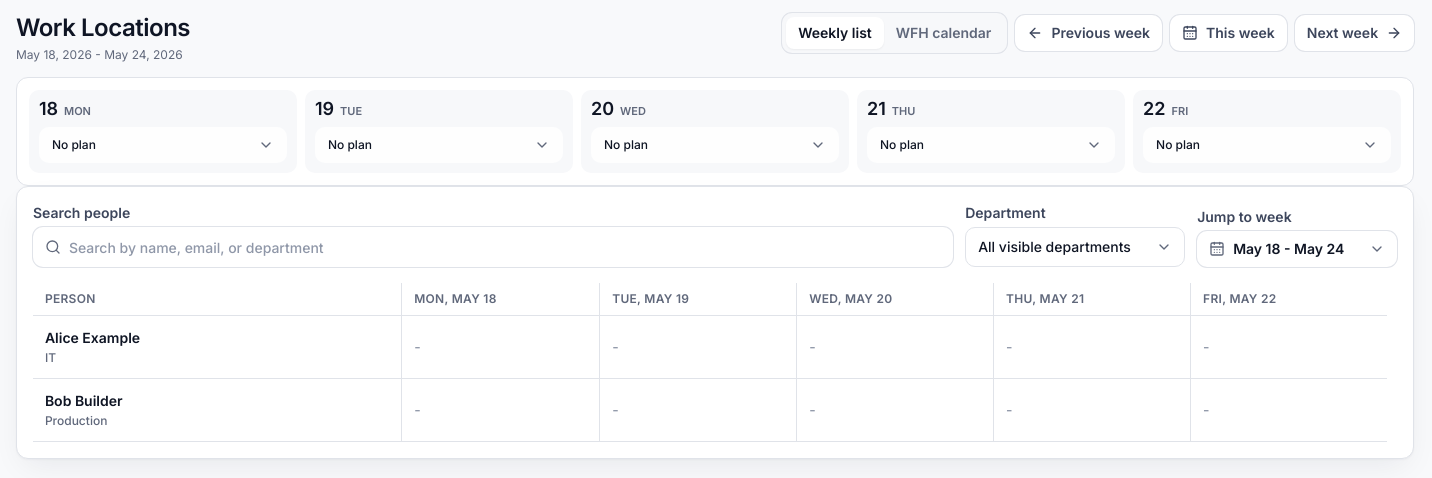
WorkLocationCalendar › searches people rows without leaving the locations page
The width and height of the screenshot is (1432, 478).
Type "bob" into the field labelled "Search people" at (493, 248), box [33, 228, 953, 268]
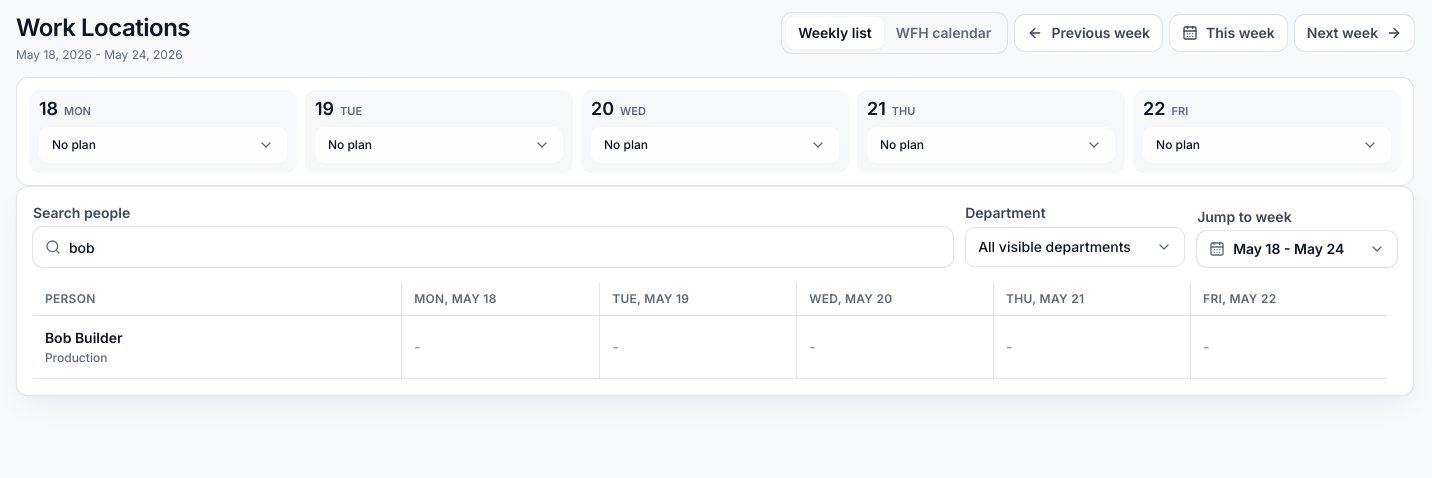
expect the text "Bob Builder" is shown: met, box [45, 330, 123, 346]
expect the text "Alice Example" is gone: met
